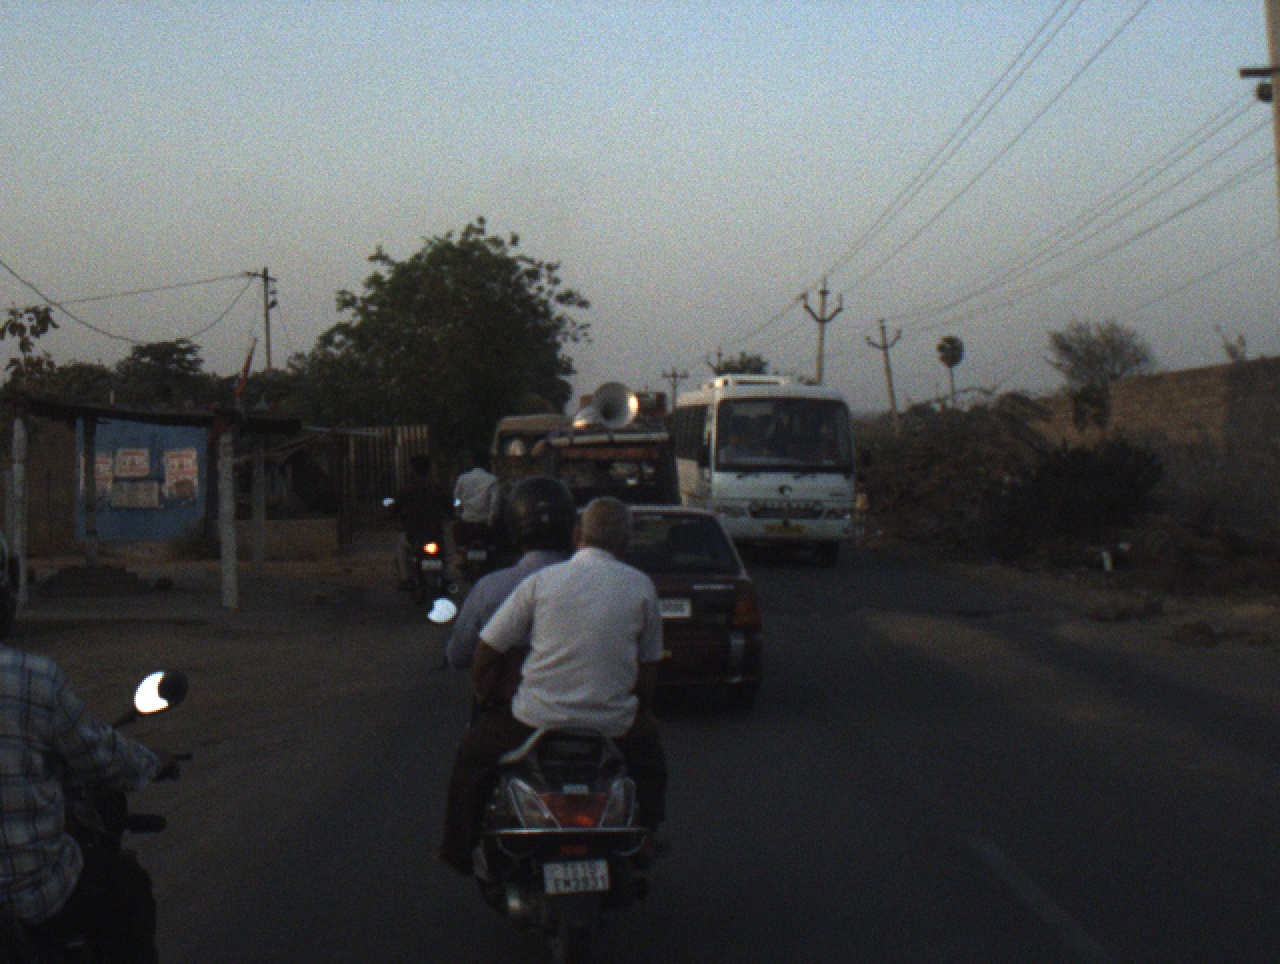bus: (661, 372, 858, 570)
car: (570, 501, 763, 720), (541, 381, 680, 511), (487, 412, 572, 494)
motorcycle: (422, 594, 665, 963), (1, 660, 196, 961), (381, 497, 462, 617), (447, 491, 511, 592)
person: (855, 470, 870, 528)
rider: (424, 495, 683, 883), (1, 536, 176, 960), (447, 477, 580, 730), (391, 448, 476, 595), (452, 447, 511, 568), (480, 464, 508, 511)
truck: (576, 394, 670, 428)
